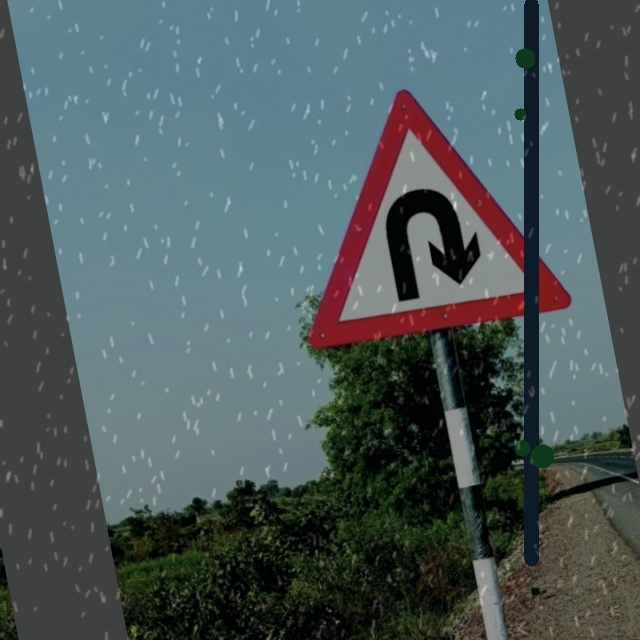Right_Hair_Pin_Bend: (268, 67, 574, 356)
